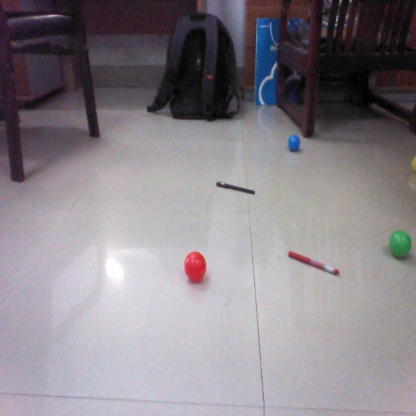ball: (181, 250, 212, 284), (387, 226, 411, 259), (284, 133, 303, 152)
pen: (289, 250, 343, 277), (214, 182, 255, 195)
